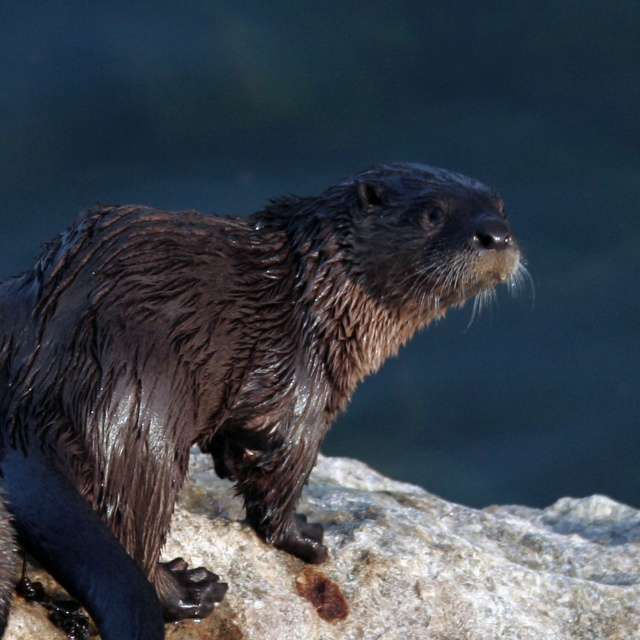Otter: (0, 161, 535, 640)
